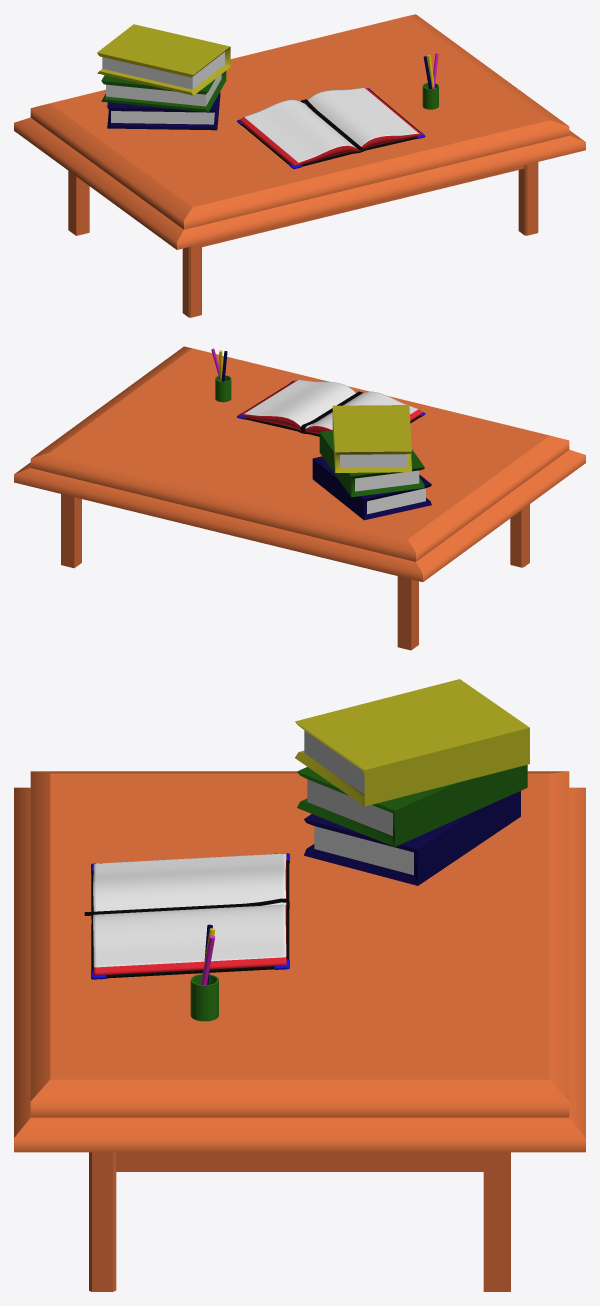
Rendered from Mesa.fbx.
3 views of the same model, one above another, from view 1: azimuth 30°, elevation 25°; view 2: azimuth 150°, elevation 25°; view 3: azimuth 270°, elevation 25° (orthographic). The views are drawn at different scales.
Visible parts, largest first — view 1: EncimadeMesa, LibroAbierto, Libro2.002, Libro2.001, Libro2, Mesa, Mesa1, Mesa4, Mesa3, BoteDeLapiceros; view 2: EncimadeMesa, Libro2.002, LibroAbierto, Libro2, Libro2.001, Mesa3, Mesa2, Mesa1, BoteDeLapiceros; view 3: EncimadeMesa, LibroAbierto, Libro2.002, Libro2.001, Libro2, Mesa5, Mesa2, Mesa, BoteDeLapiceros.
Part boxes in pixels (<box>): EncimadeMesa: <box>14,14,585,249</box>; LibroAbierto: <box>237,87,425,169</box>; Libro2.002: <box>97,24,230,95</box>; Libro2.001: <box>101,71,226,112</box>; Libro2: <box>107,92,220,130</box>; Mesa: <box>518,162,538,235</box>; Mesa1: <box>182,244,201,317</box>; Mesa4: <box>202,165,524,246</box>; Mesa3: <box>68,171,89,235</box>; BoteDeLapiceros: <box>422,83,438,109</box>; EncimadeMesa: <box>14,346,585,581</box>; Libro2.002: <box>332,405,411,472</box>; LibroAbierto: <box>237,380,425,436</box>; Libro2: <box>312,456,431,520</box>; Libro2.001: <box>319,430,424,497</box>; Mesa3: <box>397,576,418,650</box>; Mesa2: <box>61,494,81,568</box>; Mesa1: <box>510,504,529,567</box>; BoteDeLapiceros: <box>215,375,231,402</box>; EncimadeMesa: <box>14,771,585,1152</box>; LibroAbierto: <box>84,853,289,979</box>; Libro2.002: <box>295,679,529,806</box>; Libro2.001: <box>297,764,527,846</box>; Libro2: <box>304,791,520,885</box>; Mesa5: <box>116,1152,483,1171</box>; Mesa2: <box>483,1152,510,1291</box>; Mesa: <box>89,1152,116,1291</box>; BoteDeLapiceros: <box>190,974,218,1021</box>.
Bounding box in the file's own units: 1242 × 537 × 857.
